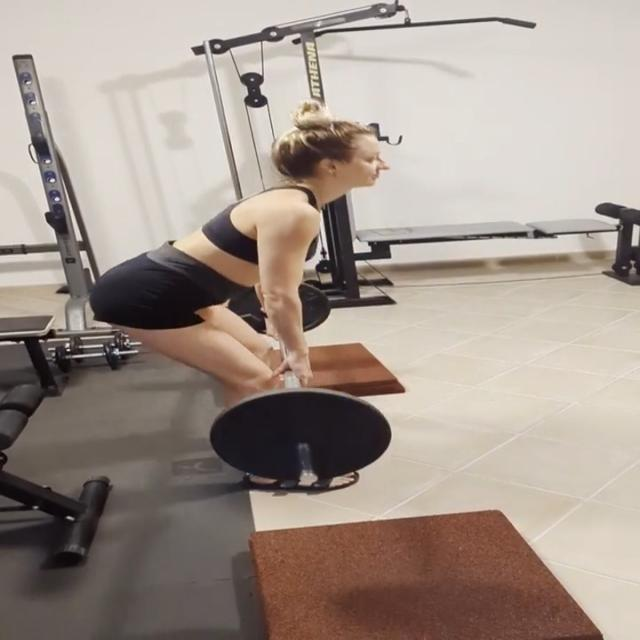barbell: (206, 383, 398, 497)
